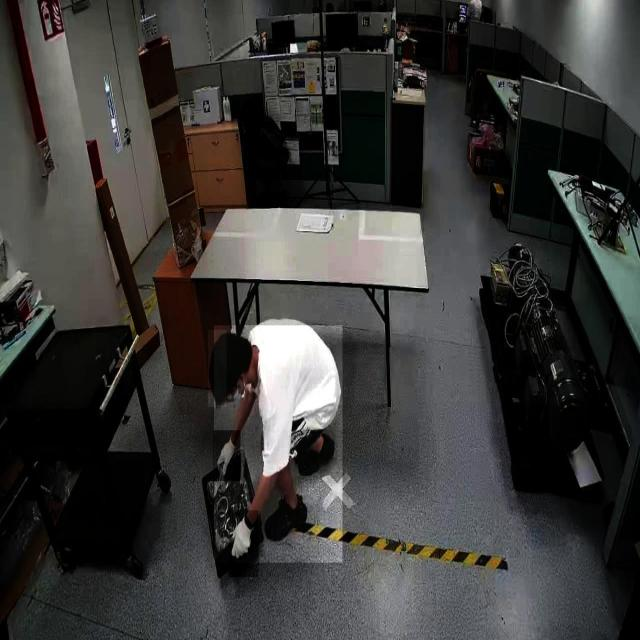hand_glove: (229, 510, 259, 578), (213, 430, 241, 482)
head_nohelmet: (208, 330, 227, 408)
person: (214, 326, 343, 564)
shoes: (260, 492, 312, 545), (295, 432, 339, 476)
